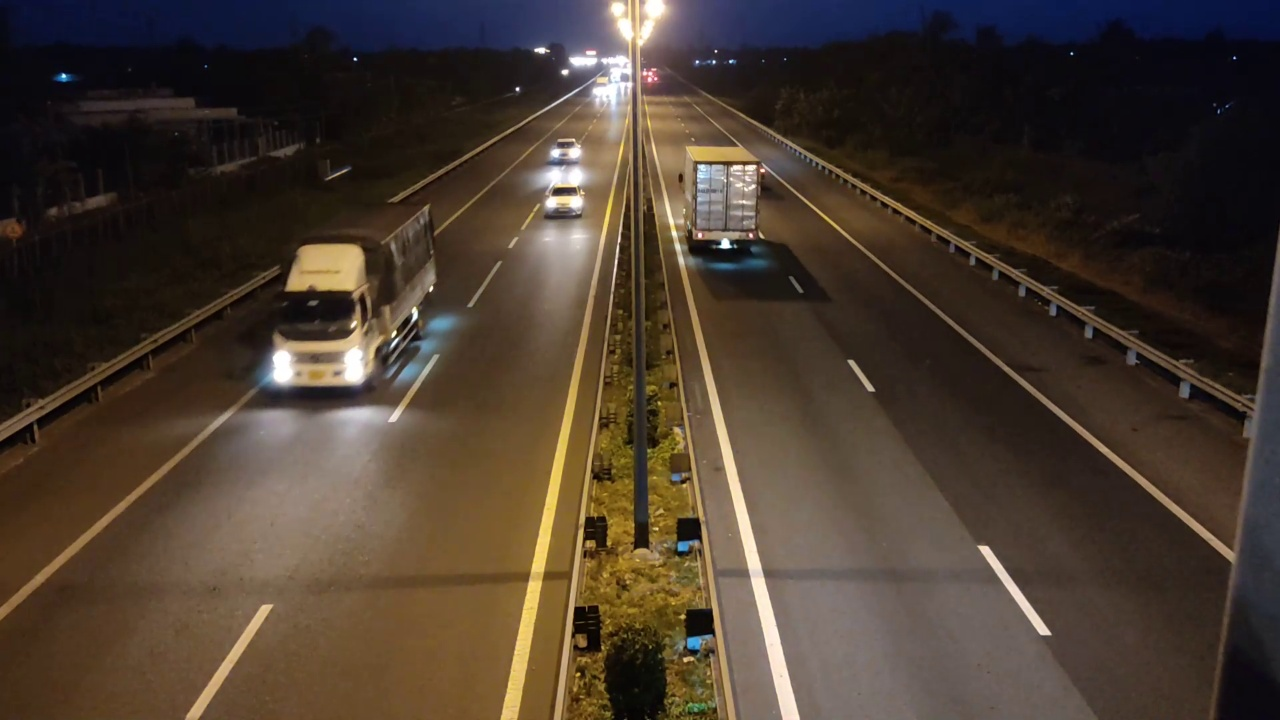car: (543, 181, 585, 219), (549, 138, 583, 165)
truck: (269, 201, 439, 395), (681, 145, 764, 255)
